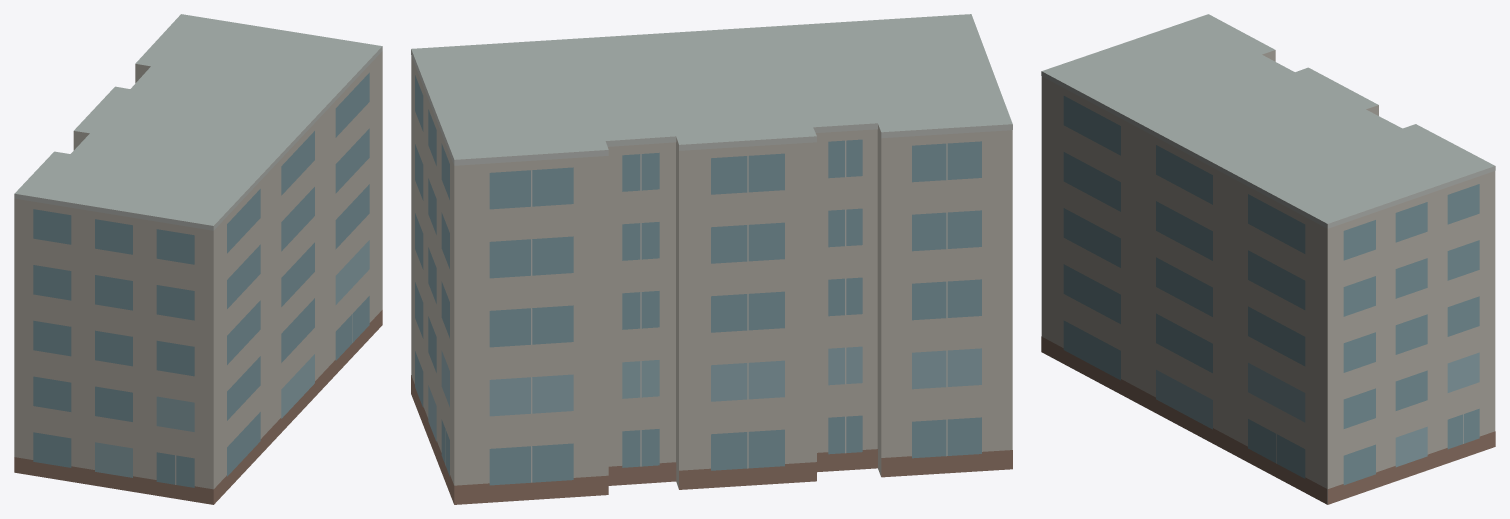
File: survey-upis-32746238.glb
The picture shows the model from 3 angles, left to right: view 1: azimuth 30°, elevation 25°; view 2: azimuth 150°, elevation 25°; view 3: azimuth 270°, elevation 25°; orthographic projection. The views are drawn at different scales.
Visible parts, largest first — view 1: survey-upis-32746238.tmp; view 2: survey-upis-32746238.tmp; view 3: survey-upis-32746238.tmp.
Boxes of the visible parts, <box> form: survey-upis-32746238.tmp: <box>14,14,382,504</box>; survey-upis-32746238.tmp: <box>411,14,1012,504</box>; survey-upis-32746238.tmp: <box>1041,14,1495,504</box>.
Size of the model in its own units: 22.69 by 14.15 by 20.73.
